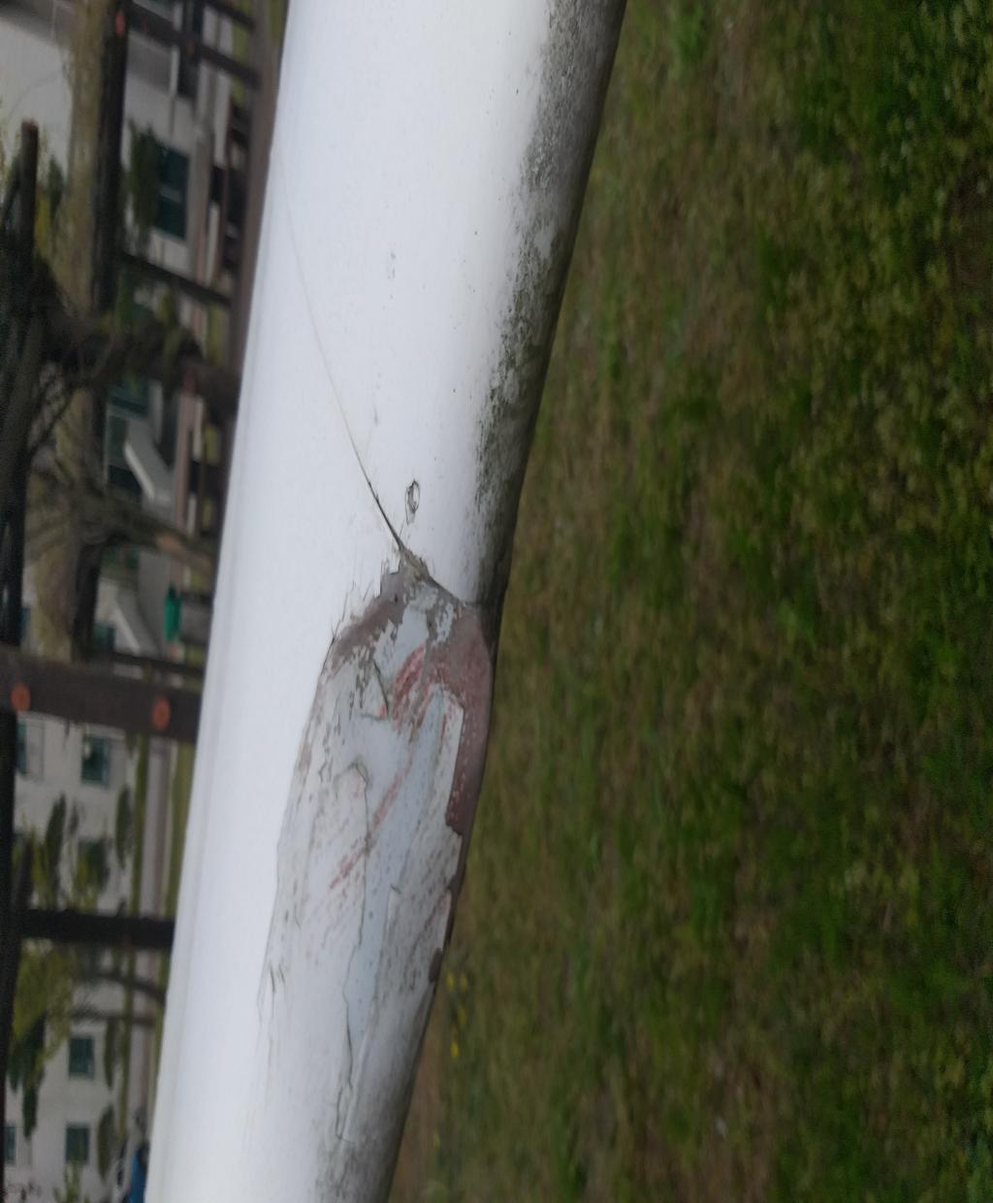corrosion: (87, 581, 306, 1080)
